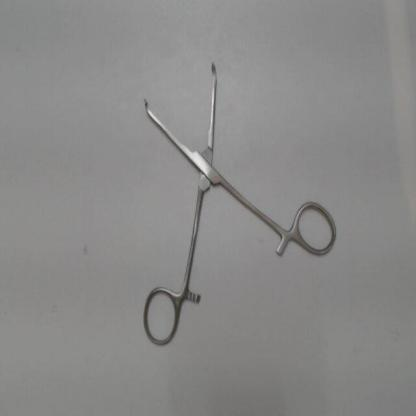Allis Tissue Forceps: (136, 49, 344, 356)
